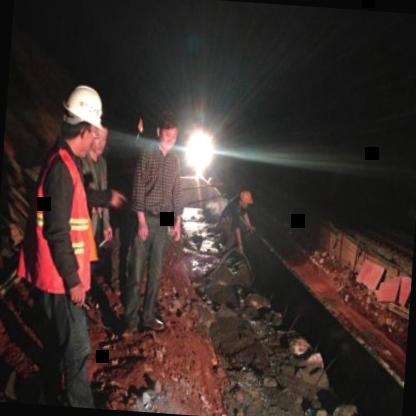helmet: (61, 80, 107, 160), (237, 186, 255, 209)
